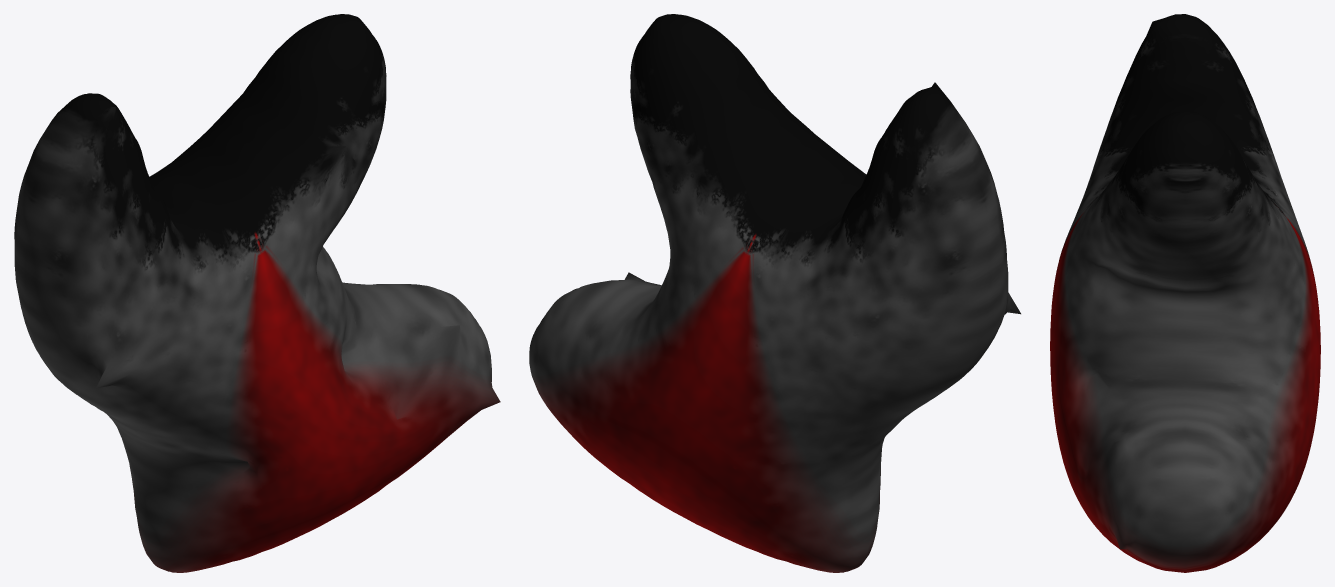
The model's file is noise1.glb.
3 renders of one model, left to right at view 1: azimuth 30°, elevation 25°; view 2: azimuth 150°, elevation 25°; view 3: azimuth 270°, elevation 25°, orthographic. The views are drawn at different scales.
Bounding box in the file's own units: 5.64 × 6.04 × 3.03.
1 material, 1 textured.
